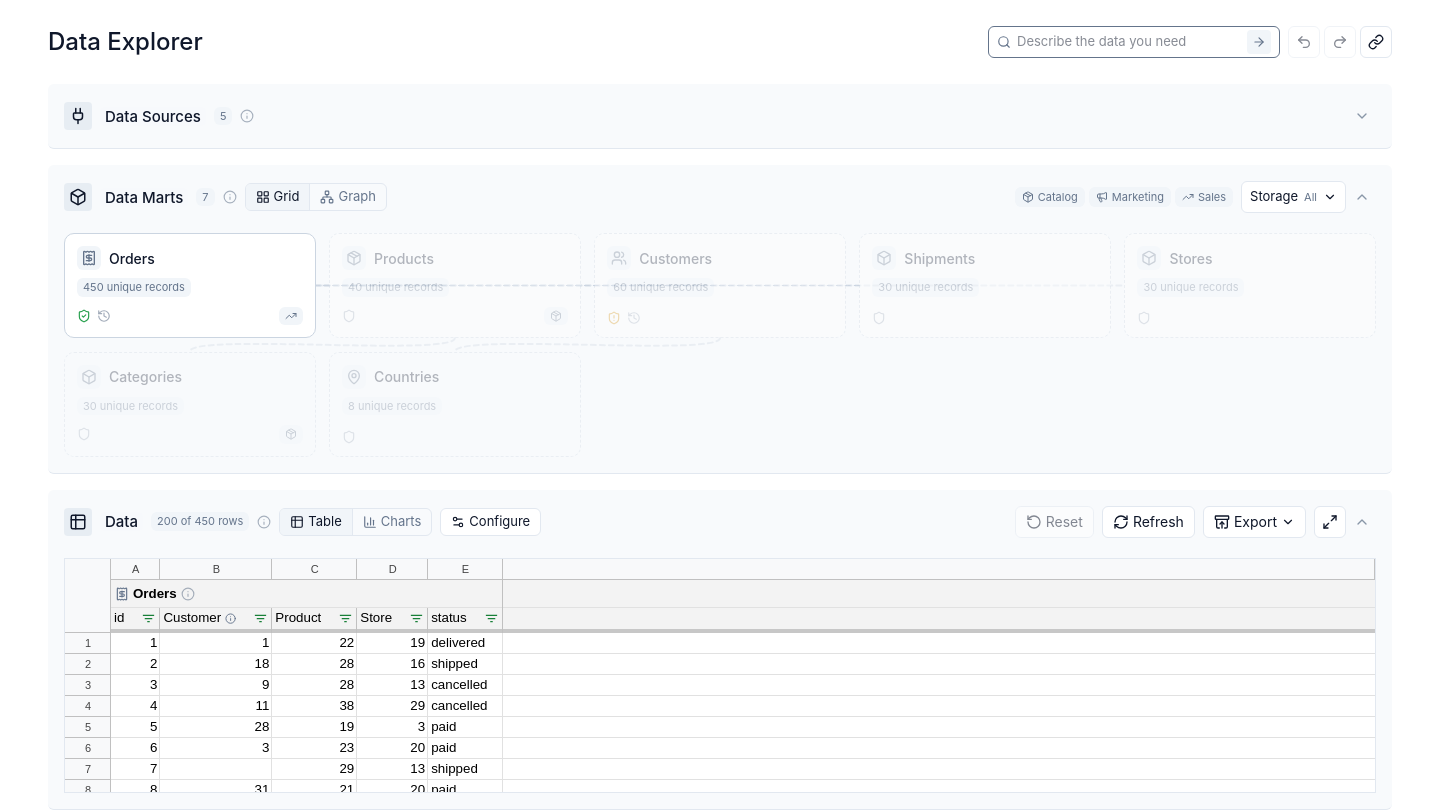
Test: selecting a joinable data mart adds its Unique Count alone (no dimension), titles the grid "Orders + Customers" and the card looks like the main one
Expected: the text "Customers" is shown, [639,250,712,266]
Press Escape
Click the element showing "Customers 60 unique records" at x=720, y=286, box [594,233,846,338]
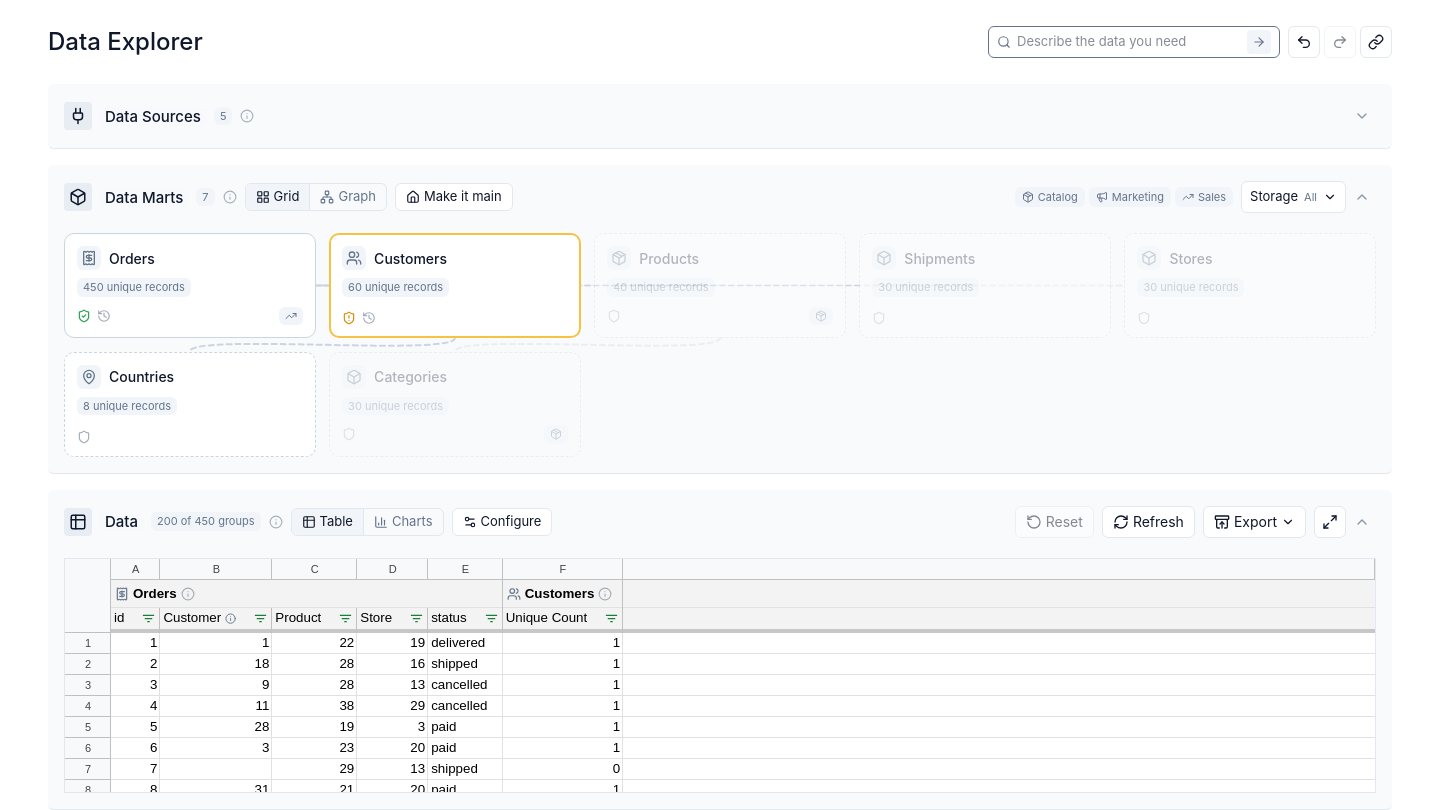
Expected: the text "Unique Count" is shown, [506,608,587,628]
